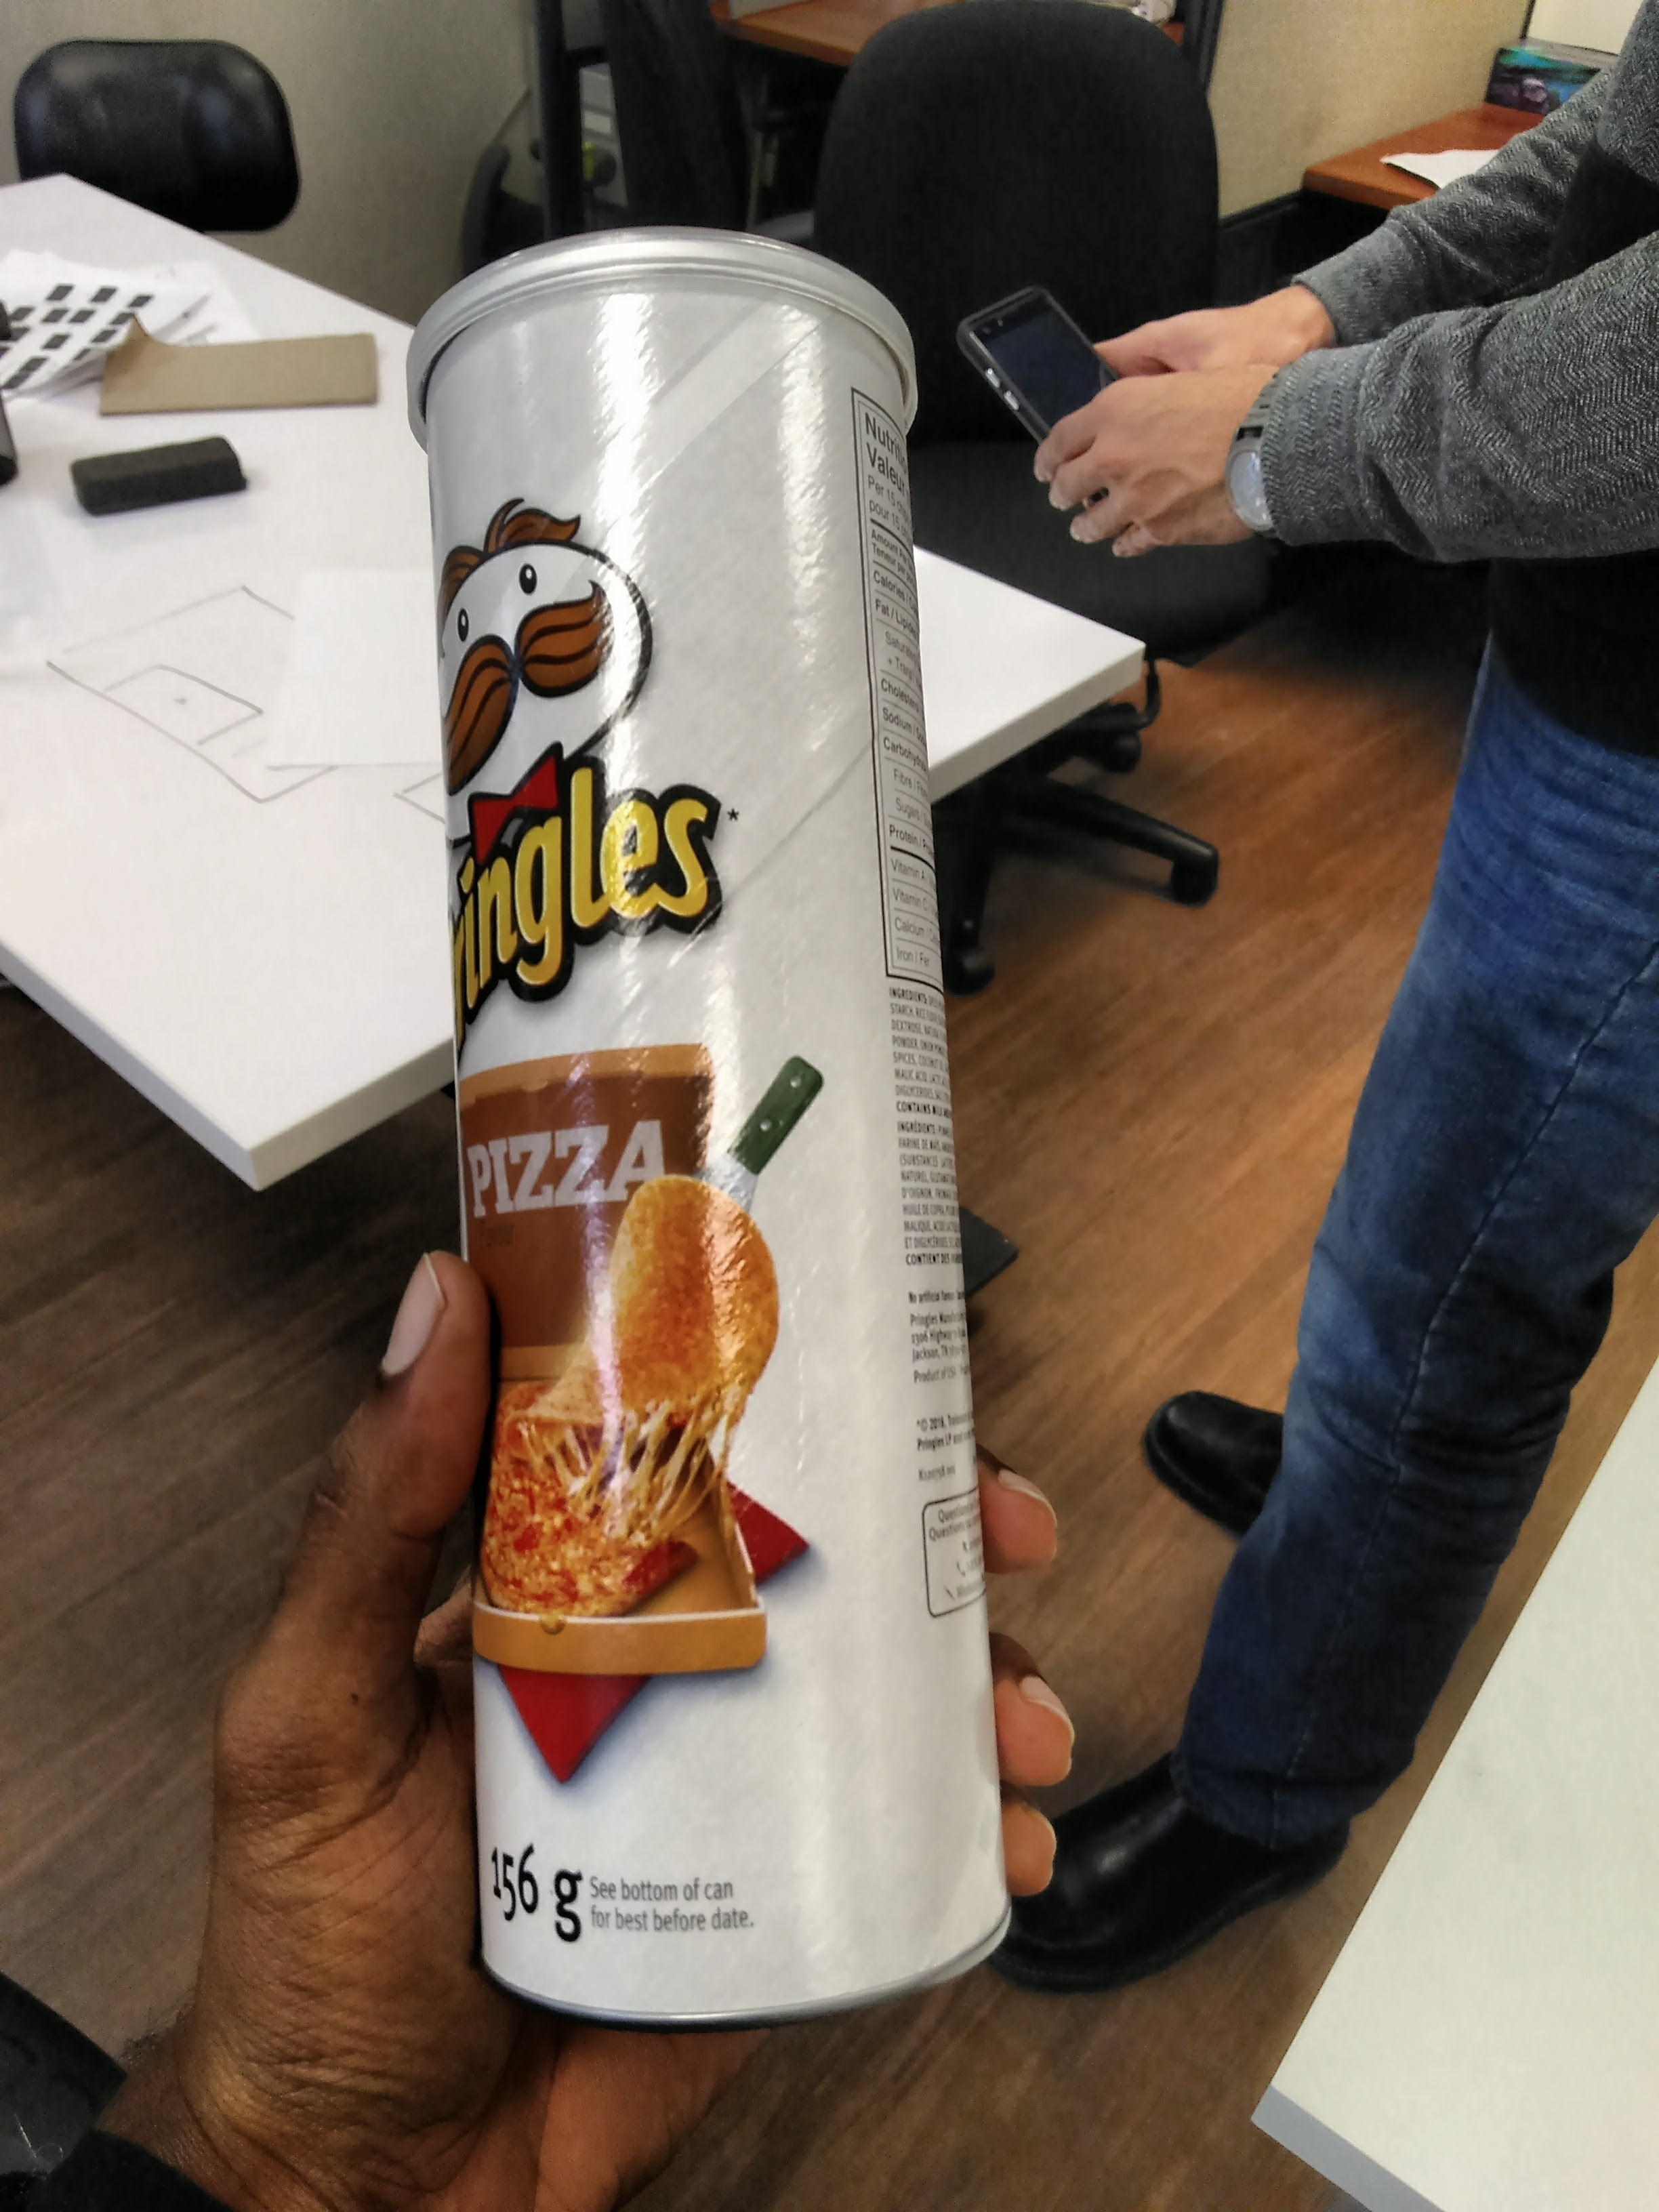pringles: (319, 239, 1101, 2020)
